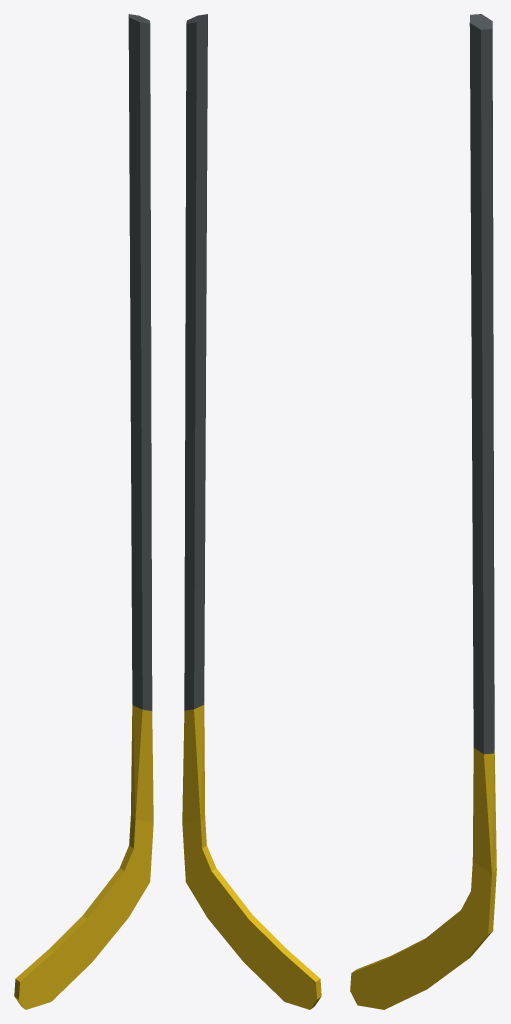
The model's file is Ice_hockey_stick_yellow.fbx.
The picture shows the model from 3 angles, left to right: view 1: azimuth 30°, elevation 25°; view 2: azimuth 150°, elevation 25°; view 3: azimuth 330°, elevation 25°; orthographic projection. The views are drawn at different scales.
Visible parts, largest first — view 1: Ice_hockey_stick_yellow; view 2: Ice_hockey_stick_yellow; view 3: Ice_hockey_stick_yellow.
Boxes of the visible parts, box(x1,y1,x2,y2) form: Ice_hockey_stick_yellow: box(14, 14, 153, 1009); Ice_hockey_stick_yellow: box(182, 14, 321, 1009); Ice_hockey_stick_yellow: box(350, 14, 496, 1009).
Size of the model in its own units: 28.25 by 193 by 4.06.
